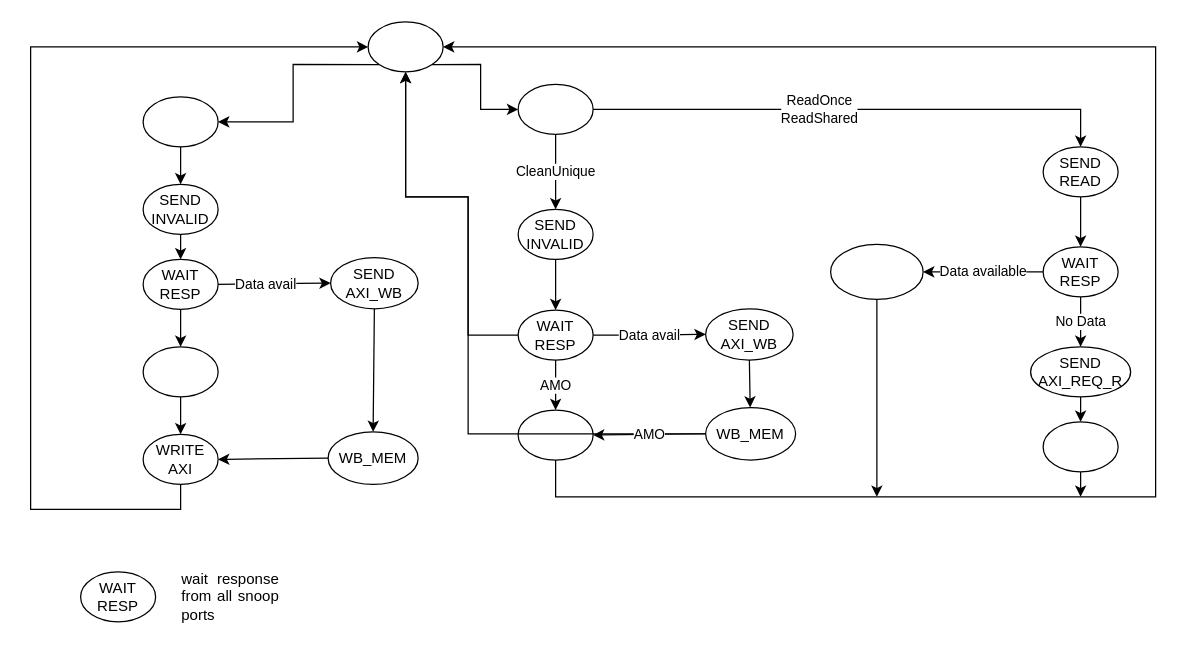
This 1188x645 diagram has some shape labels left out. The centre of each missing label's shape, as x and y in pixels:
DECODE R: point (555, 108)
DECODE W: point (180, 121)
IDLE: point (405, 46)
READ AXI: point (555, 434)
READ MEM: point (1080, 446)
READ SNP_DATA: point (876, 271)
WRITE MEM: point (180, 371)
